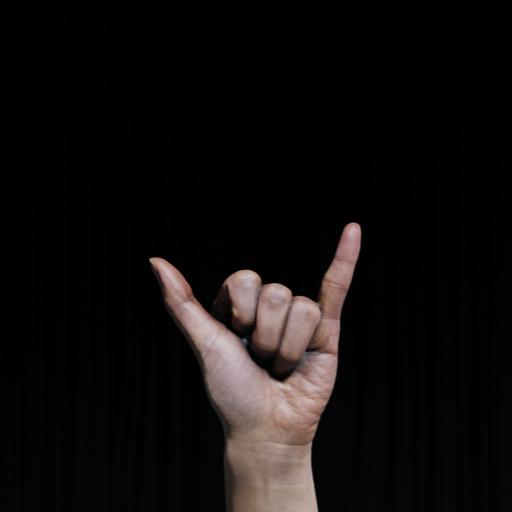Y: (143, 216, 369, 440)
